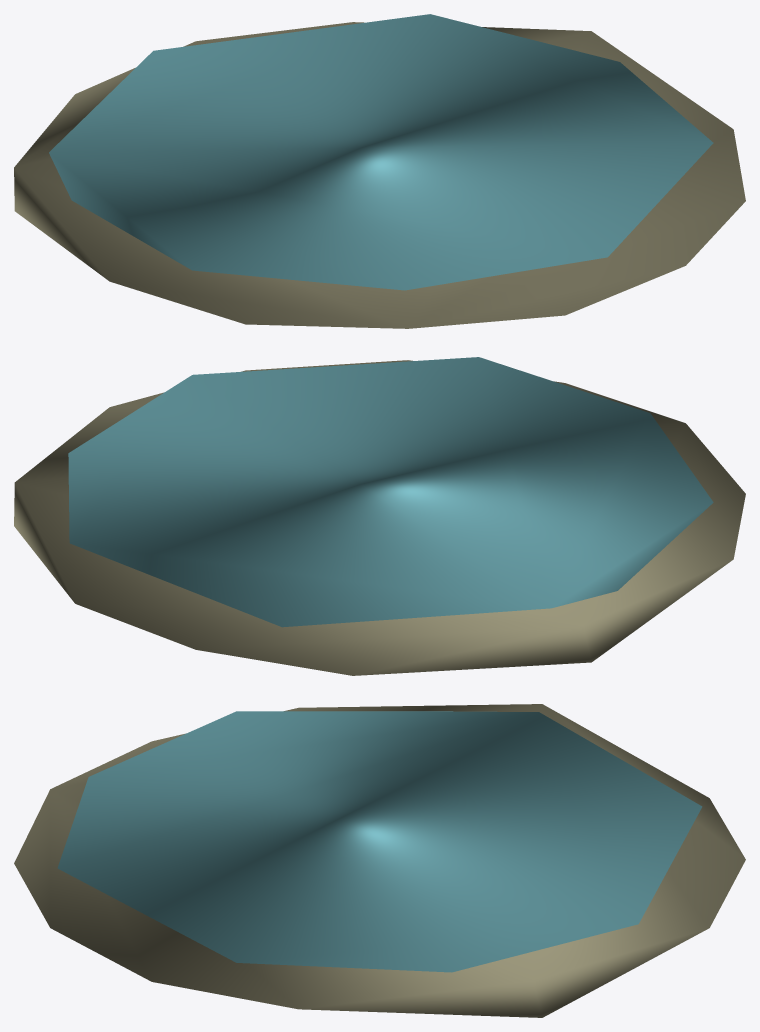
Rendered from SM_Warmerdamm_Pond_LOD3.fbx.
3 renders of one model, top to bottom at view 1: azimuth 30°, elevation 25°; view 2: azimuth 150°, elevation 25°; view 3: azimuth 270°, elevation 25°, orthographic.
Visible parts, largest first — view 1: SM_Warmerdamm_Pond_LOD3; view 2: SM_Warmerdamm_Pond_LOD3; view 3: SM_Warmerdamm_Pond_LOD3.
Boxes of the visible parts, x1,y1,x2,y2 form: SM_Warmerdamm_Pond_LOD3: (14,14,745,328); SM_Warmerdamm_Pond_LOD3: (14,357,745,675); SM_Warmerdamm_Pond_LOD3: (14,704,745,1017).
Bounding box in the file's own units: 3 × 0.2175 × 3.08.
